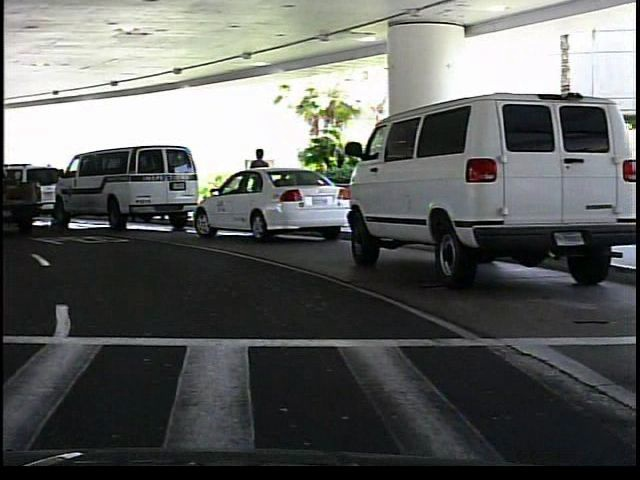person: (245, 144, 272, 220)
